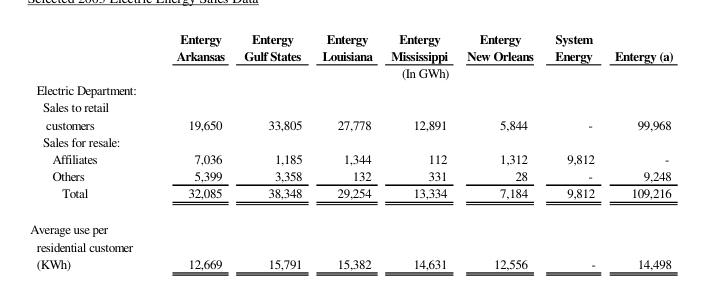table: (29, 29, 672, 271)
table column: (29, 29, 136, 271), (136, 29, 233, 271), (456, 29, 543, 271), (233, 29, 311, 271), (381, 29, 456, 271), (311, 29, 381, 271), (604, 29, 672, 271), (543, 29, 604, 271)
table column header: (29, 29, 672, 80)
table projected row header: (29, 210, 672, 237), (29, 80, 672, 97), (29, 97, 672, 114), (29, 132, 672, 149), (29, 237, 672, 254)
table row: (29, 29, 672, 63), (29, 183, 672, 210), (29, 210, 672, 237), (29, 114, 672, 132), (29, 63, 672, 80), (29, 80, 672, 97), (29, 97, 672, 114), (29, 132, 672, 149), (29, 149, 672, 166), (29, 166, 672, 183), (29, 237, 672, 254), (29, 254, 672, 271)
table spanning cell: (136, 63, 672, 80)
